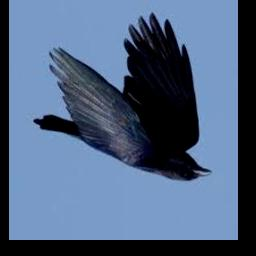Crow: (33, 13, 213, 181)
